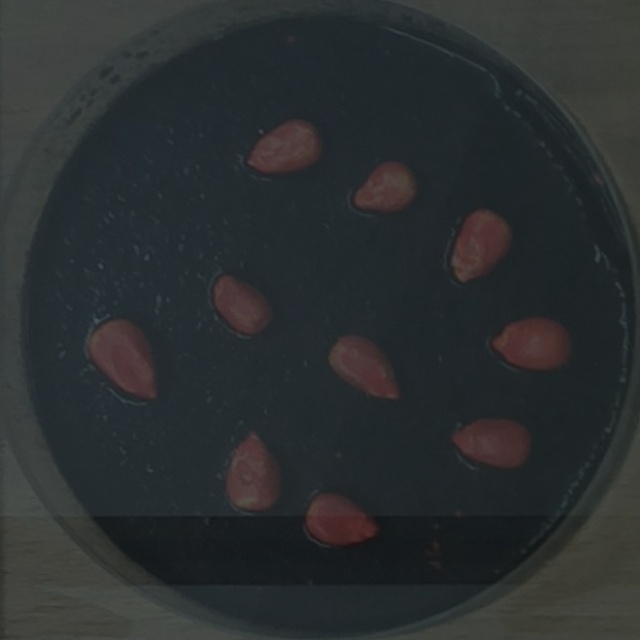Zea mays: (80, 311, 166, 407), (441, 201, 522, 292), (321, 326, 409, 406), (218, 423, 289, 519), (239, 110, 329, 183), (484, 309, 579, 377), (297, 484, 386, 556), (444, 408, 538, 474), (204, 267, 278, 340), (343, 151, 424, 217)
